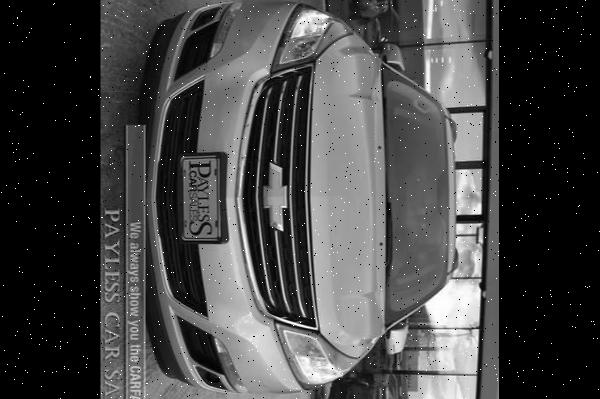Front_Bumper: (137, 0, 308, 396)
Front_Windshield: (383, 64, 453, 329)
Grille: (235, 61, 317, 332)
Hood: (306, 35, 383, 359)
Left_Headlight: (272, 322, 359, 389)
Left_Mirror: (385, 326, 407, 359)
Right_Headlight: (273, 3, 353, 74)
Right_Mirror: (384, 45, 405, 71)
